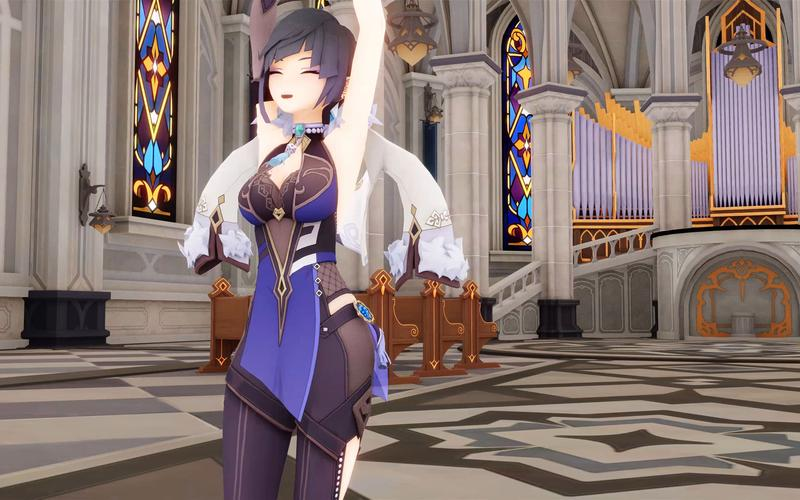夜兰: (193, 1, 383, 500)
